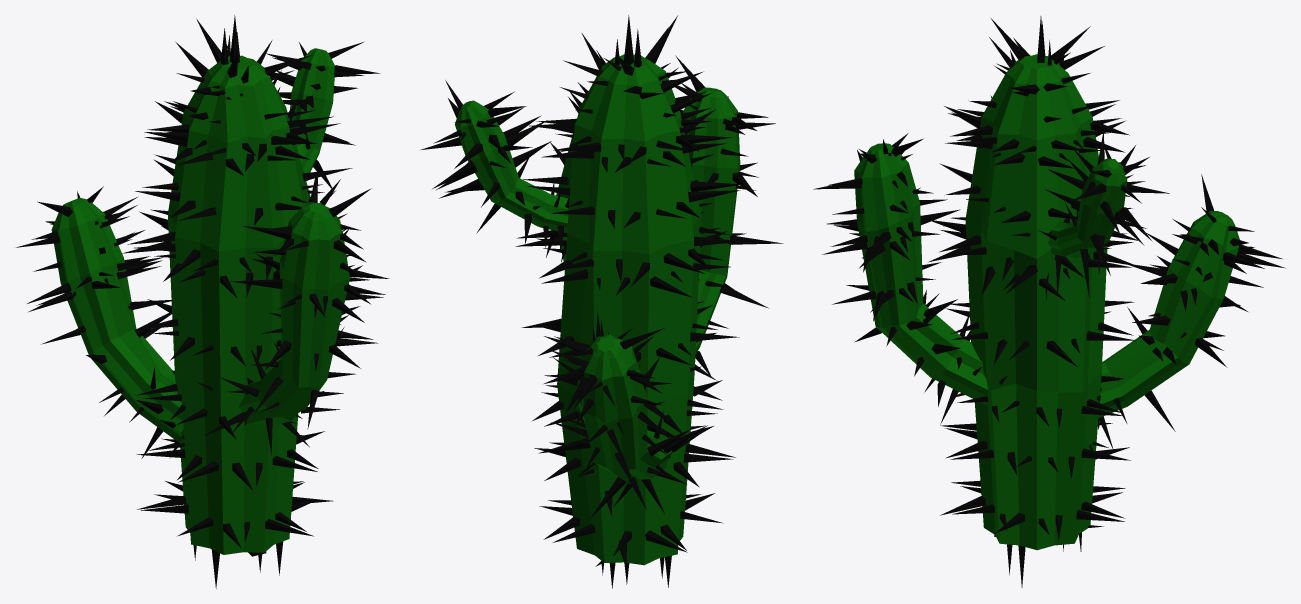
Rendered from cactusvariante2.fbx.
3 renders of one model, left to right at view 1: azimuth 30°, elevation 25°; view 2: azimuth 150°, elevation 25°; view 3: azimuth 270°, elevation 25°, orthographic. The views are drawn at different scales.
Parts seen in each view (by area): view 1: Cylinder; view 2: Cylinder; view 3: Cylinder.
Part boxes in pixels (x1,y1,x2,y2): Cylinder: (51,48,349,554); Cylinder: (455,54,740,565); Cylinder: (854,54,1239,550).
Size of the model in its own units: 522 by 954 by 733.
